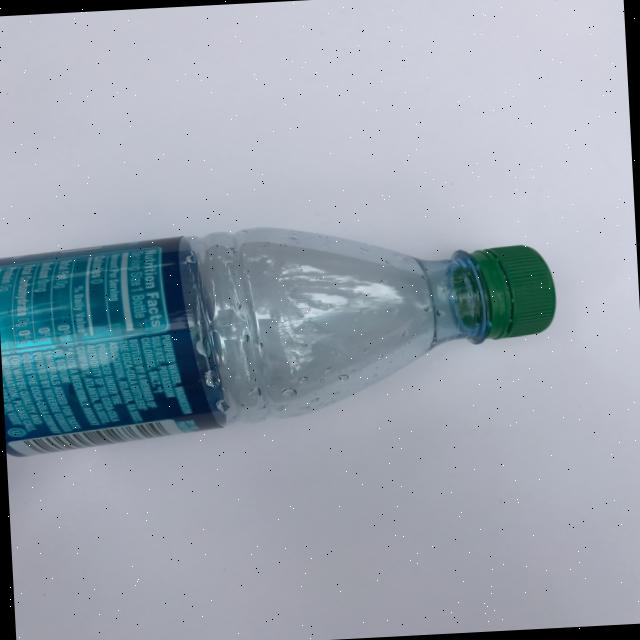plastic: (0, 210, 563, 458)
